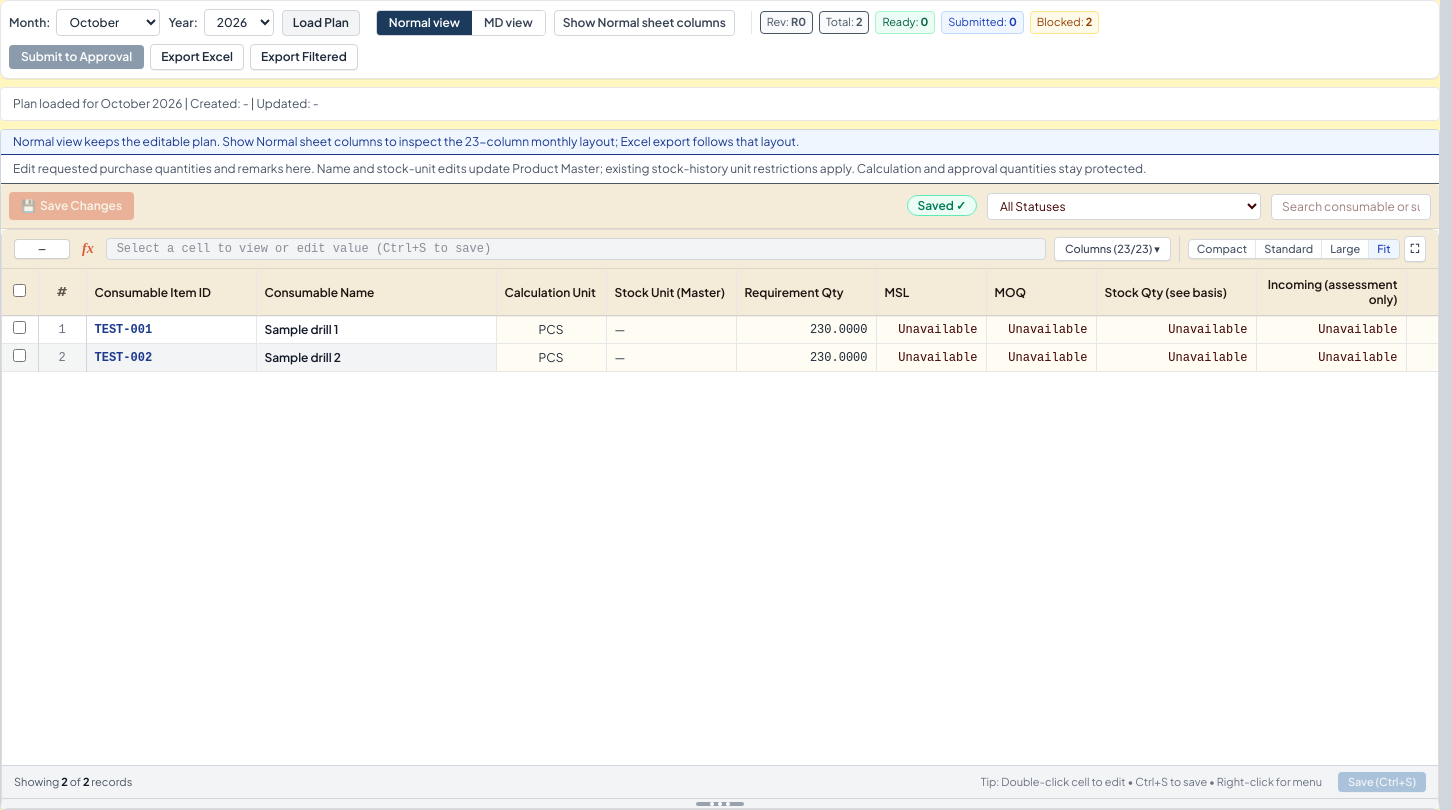
Test: MD view loads product detail scope and exports the 76-column management layout
Expected: the cell "TEST-001" is shown, [86,316,256,344]
Click the button "MD view": (508, 22) [472,10,545,34]
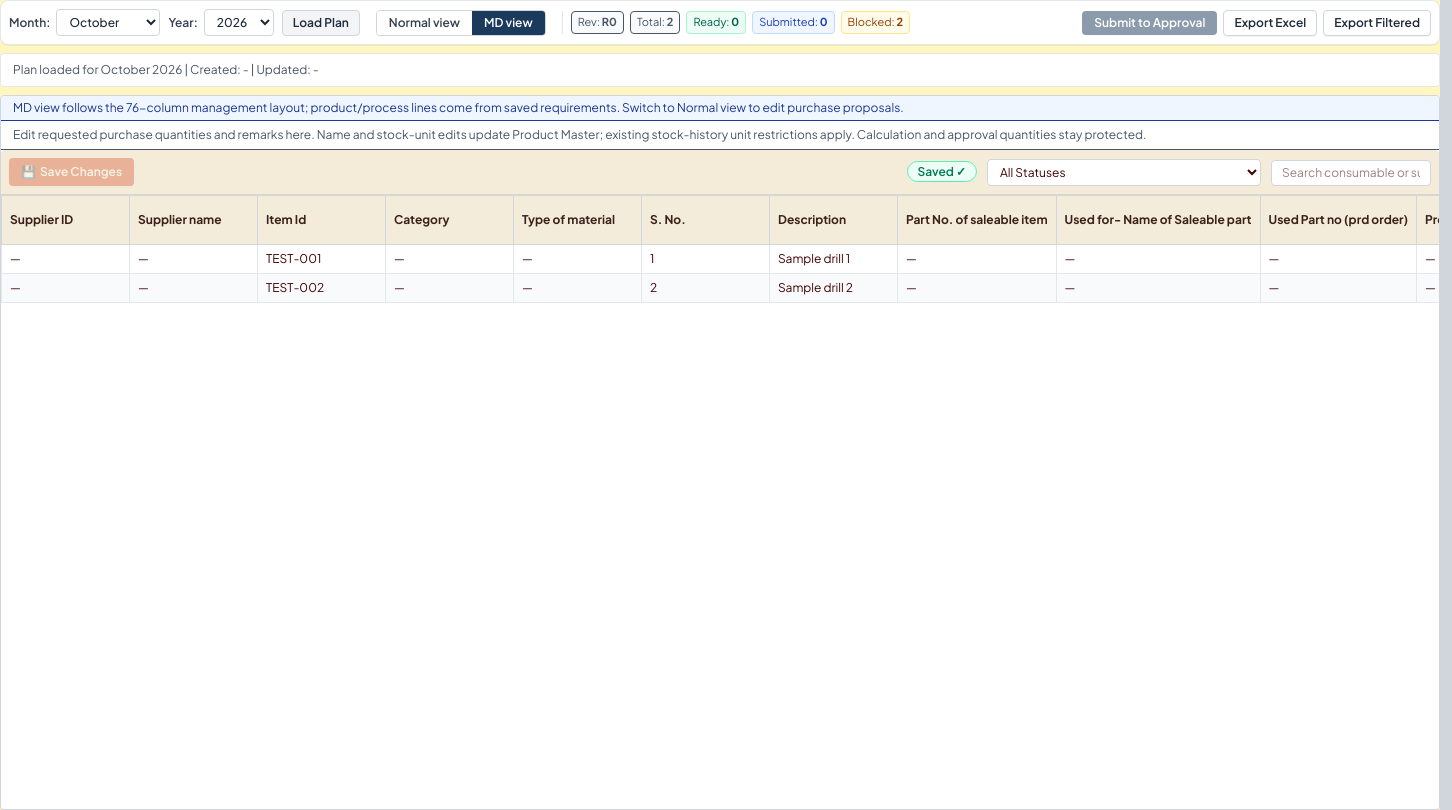
Click the button "Export Excel": (1270, 22) [1223,10,1317,36]
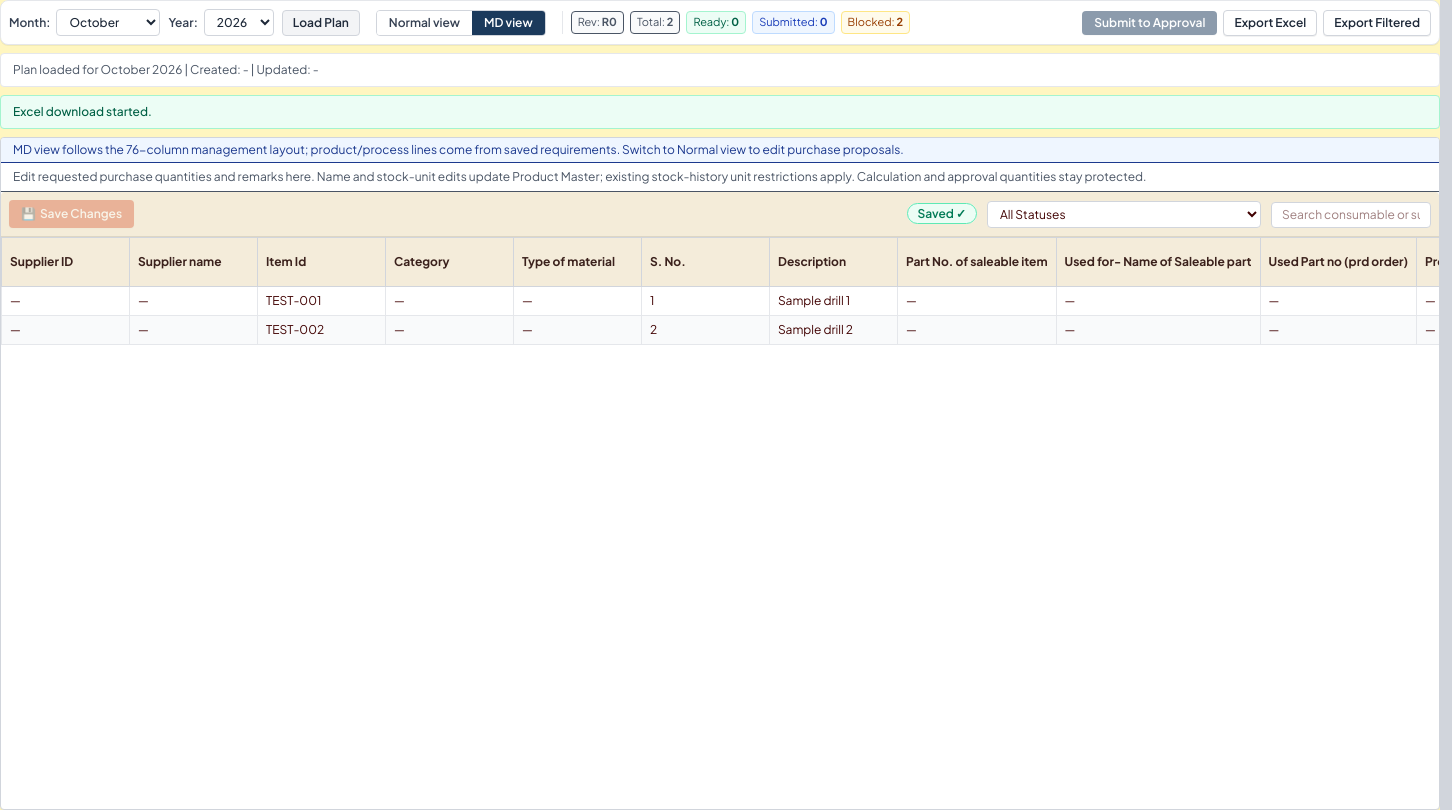
Result: the text "Excel download started." is shown at [0,95,1440,129]
